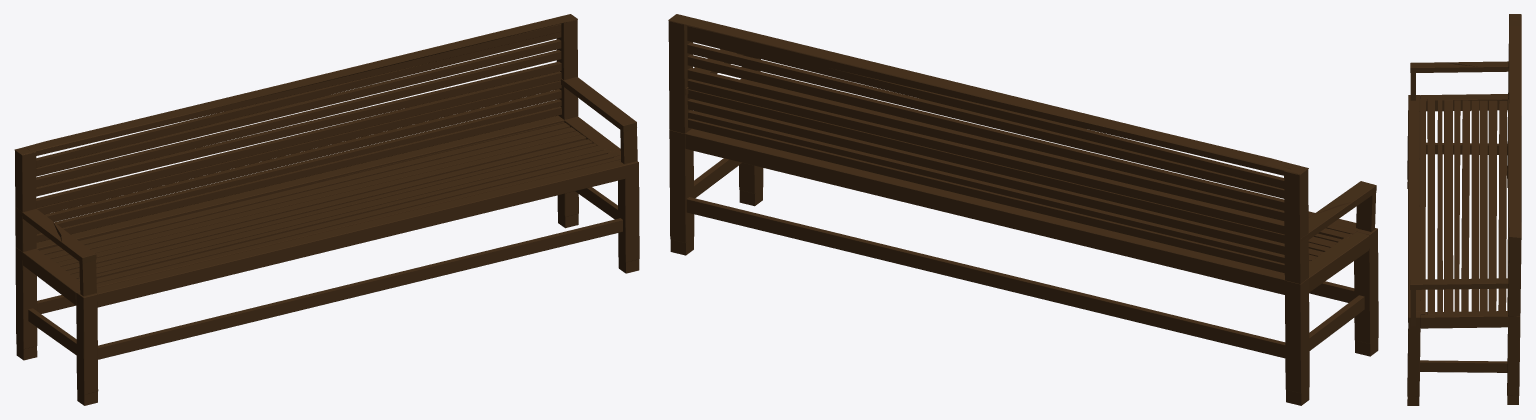
Rendered from bbench.fbx.
3 views of the same model, side by side, from view 1: azimuth 30°, elevation 25°; view 2: azimuth 150°, elevation 25°; view 3: azimuth 270°, elevation 25° (orthographic). The views are drawn at different scales.
Parts seen in each view (by area): view 1: Bench2; view 2: Bench2; view 3: Bench2.
Part boxes in pixels (x1,y1,x2,y2): Bench2: (14,14,639,405); Bench2: (668,14,1378,405); Bench2: (1407,14,1521,405).
Size of the model in its own units: 2.66 by 0.9455 by 0.5764.
